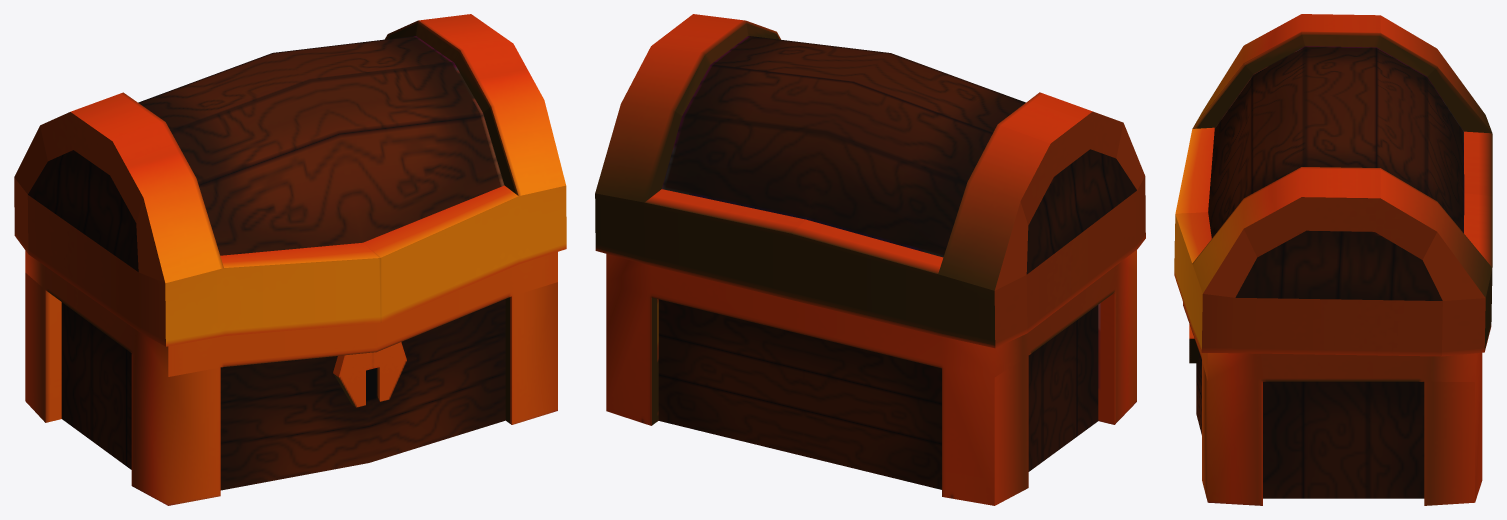
Rendered from ChestMini.fbx.
3 views of the same model, side by side, from view 1: azimuth 30°, elevation 25°; view 2: azimuth 150°, elevation 25°; view 3: azimuth 270°, elevation 25° (orthographic). The views are drawn at different scales.
Parts seen in each view (by area): view 1: ChestMini; view 2: ChestMini; view 3: ChestMini.
Part boxes in pixels (x1=…): ChestMini: x1=14, y1=14, x2=566, y2=505; ChestMini: x1=595, y1=14, x2=1145, y2=505; ChestMini: x1=1174, y1=14, x2=1492, y2=505.
Size of the model in its own units: 1.49 by 1.16 by 1.05.
